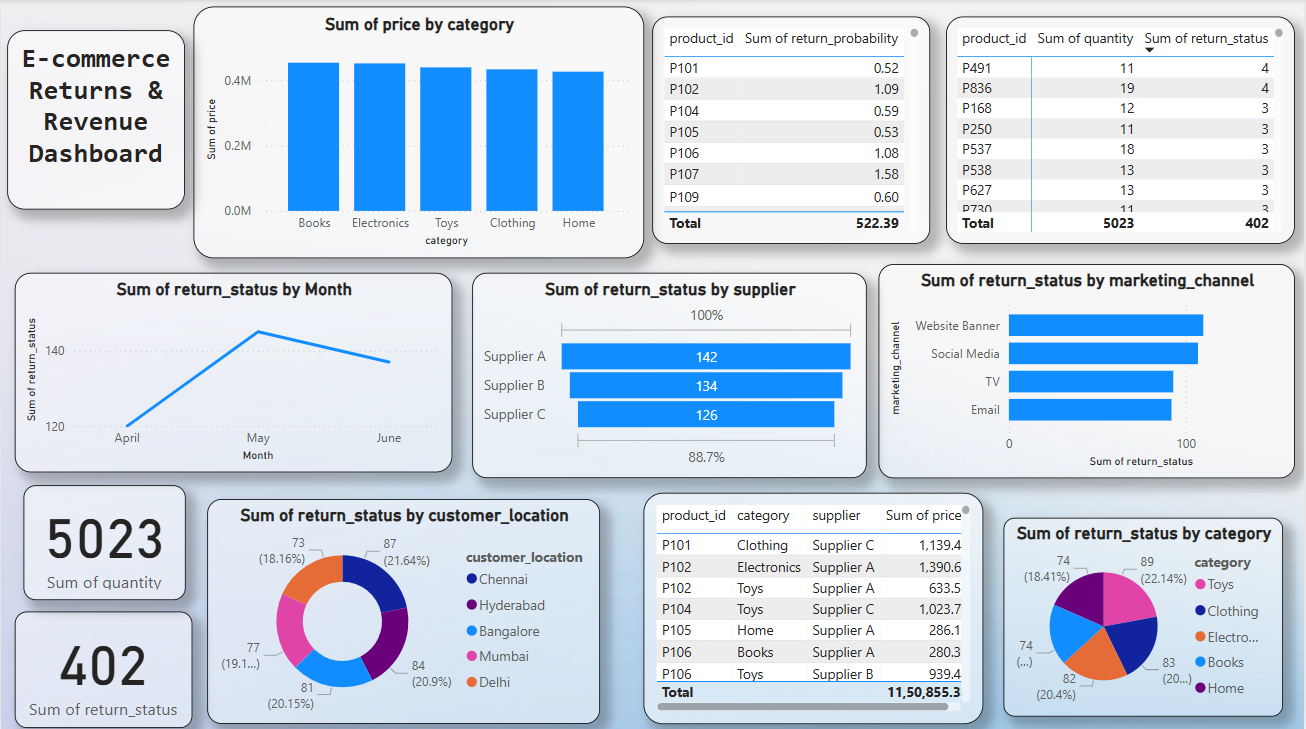

What the dashboard file says about the page in this screenshot:
{"tool":"powerbi","page":{"name":"Page 1","canvas":[1280,720],"ordinal":0},"visuals":[{"type":"columnChart","fields":{"Category":["orders_returns.category"],"Y":["Sum(orders_returns.price)"]},"box":[189,7.7,442.3,247.4],"z":0},{"type":"donutChart","fields":{"Category":["orders_returns.customer_location"],"Y":["Sum(orders_returns.return_status)"]},"box":[202.6,491,385.9,220.5],"z":1000},{"type":"pieChart","fields":{"Category":["orders_returns.category"],"Y":["Sum(orders_returns.return_status)"]},"box":[984.6,509,274.4,194.9],"z":2000},{"type":"lineChart","fields":{"Category":["orders_returns.order_date.Variation.Date Hierarchy.Month"],"Y":["Sum(orders_returns.return_status)"]},"box":[14.1,269.2,429.5,196.2],"z":3000},{"type":"tableEx","fields":{"Values":["high_risk_products.product_id","Sum(high_risk_products.return_probability)"]},"box":[639.7,16.7,273.1,223.1],"z":4000},{"type":"clusteredBarChart","fields":{"Category":["orders_returns.marketing_channel"],"Y":["Sum(orders_returns.return_status)"]},"box":[861.5,260.3,409,210.3],"z":5000},{"type":"funnel","fields":{"Category":["orders_returns.supplier"],"Y":["Sum(orders_returns.return_status)"]},"box":[462.8,269.2,387.2,201.3],"z":6000},{"type":"card","fields":{"Values":["Sum(orders_returns.return_status)"]},"box":[14.1,601.3,174.4,114.1],"z":6001},{"type":"card","fields":{"Values":["Sum(orders_returns.quantity)"]},"box":[21.8,476.9,159,112.8],"z":6002},{"type":"pivotTable","fields":{"Rows":["orders_returns.product_id"],"Values":["Sum(orders_returns.quantity)","Sum(orders_returns.return_status)"]},"box":[928.2,16.7,342.3,223.1],"z":6003},{"type":"tableEx","fields":{"Values":["high_risk_products.product_id","high_risk_products.category","high_risk_products.supplier","Sum(high_risk_products.price)"]},"box":[630.8,484.6,333.3,226.9],"z":6004},{"type":"textbox","box":[6.4,30.8,174.4,175.6],"z":6005}]}

Visuals, with their boxes in screenshot pixels (x1, y1, x2, y2), scaled from the page's 1280x720 canvas onto the 1306x729 screenshot:
columnChart - orders_returns.category x Sum(orders_returns.price): <bbox>193, 8, 644, 258</bbox>
donutChart - orders_returns.customer_location x Sum(orders_returns.return_status): <bbox>207, 497, 600, 720</bbox>
pieChart - orders_returns.category x Sum(orders_returns.return_status): <bbox>1005, 515, 1285, 713</bbox>
lineChart - orders_returns.order_date.Variation.Date Hierarchy.Month x Sum(orders_returns.return_status): <bbox>14, 273, 453, 471</bbox>
tableEx - high_risk_products.product_id x Sum(high_risk_products.return_probability): <bbox>653, 17, 931, 243</bbox>
clusteredBarChart - orders_returns.marketing_channel x Sum(orders_returns.return_status): <bbox>879, 264, 1296, 476</bbox>
funnel - orders_returns.supplier x Sum(orders_returns.return_status): <bbox>472, 273, 867, 476</bbox>
card - Sum(orders_returns.return_status): <bbox>14, 609, 192, 724</bbox>
card - Sum(orders_returns.quantity): <bbox>22, 483, 184, 597</bbox>
pivotTable - orders_returns.product_id x Sum(orders_returns.quantity): <bbox>947, 17, 1296, 243</bbox>
tableEx - high_risk_products.product_id x high_risk_products.category: <bbox>644, 491, 984, 720</bbox>
textbox: <bbox>7, 31, 184, 209</bbox>
